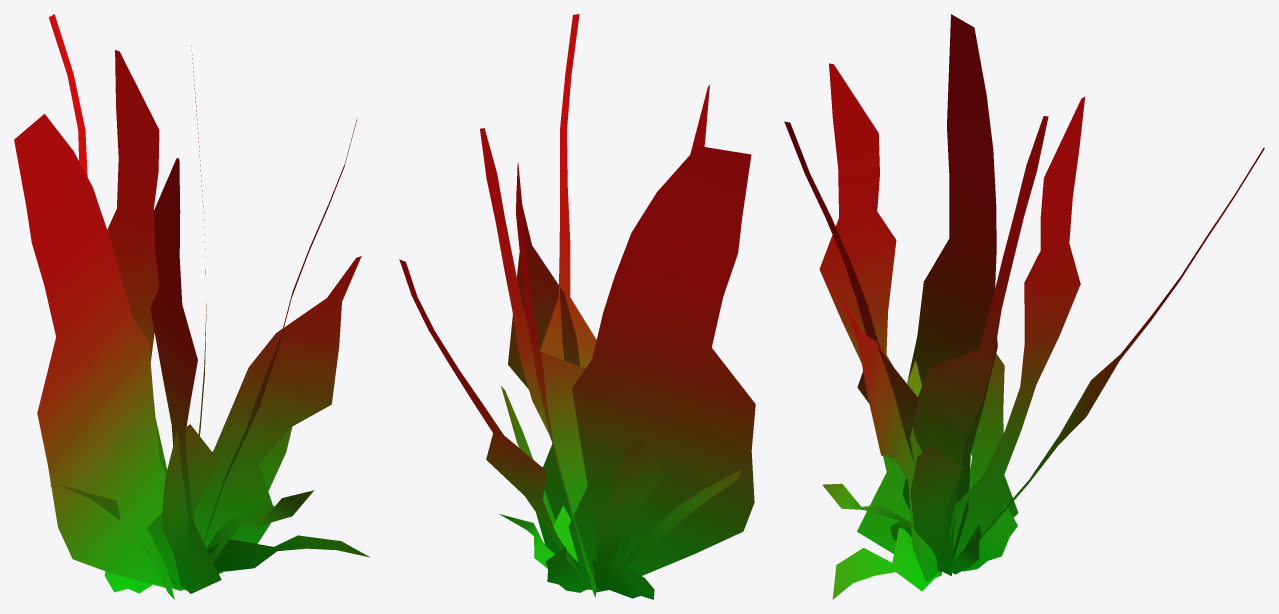
The model's file is tl2jbhcja_Var1_LOD0.fbx.
3 views of the same model, side by side, from view 1: azimuth 30°, elevation 25°; view 2: azimuth 150°, elevation 25°; view 3: azimuth 270°, elevation 25° (orthographic).
Parts seen in each view (by area): view 1: _1e86_Var1_LOD0; view 2: _1e86_Var1_LOD0; view 3: _1e86_Var1_LOD0.
Part boxes in pixels (box(x1,y1,x2,y2)): _1e86_Var1_LOD0: box(14, 14, 369, 599); _1e86_Var1_LOD0: box(399, 14, 755, 599); _1e86_Var1_LOD0: box(784, 14, 1264, 599).
Bounding box in the file's own units: 32.35 × 52.63 × 45.77.
